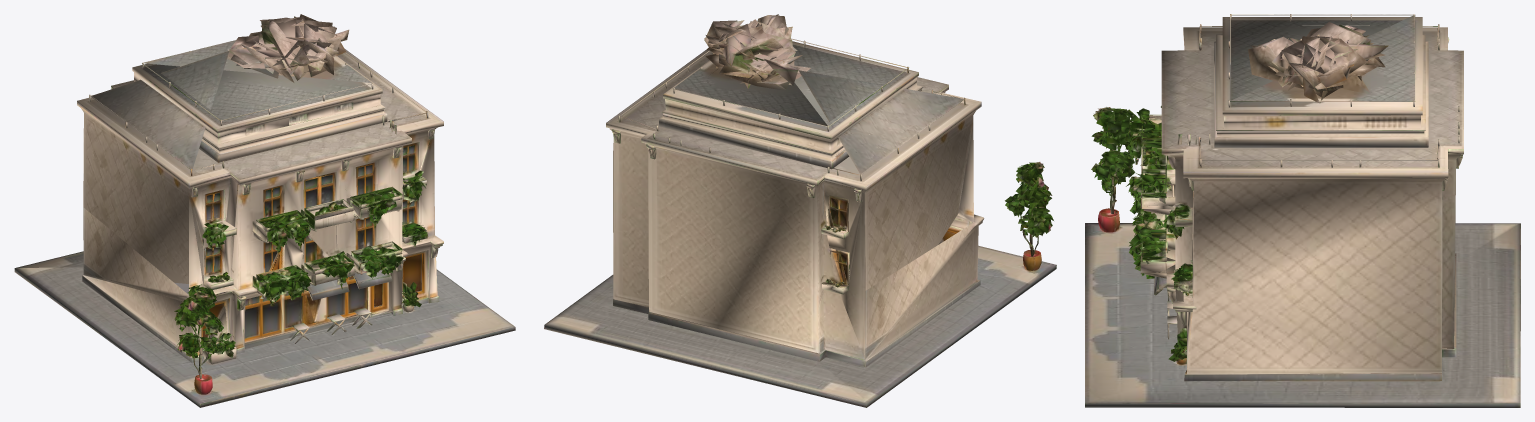
3 renders of one model, left to right at view 1: azimuth 30°, elevation 25°; view 2: azimuth 150°, elevation 25°; view 3: azimuth 270°, elevation 25°, orthographic. The views are drawn at different scales.
Bounding box in the file's own units: 0.9565 × 0.7408 × 0.9507.
Materials: 1 (1 with a texture image).
